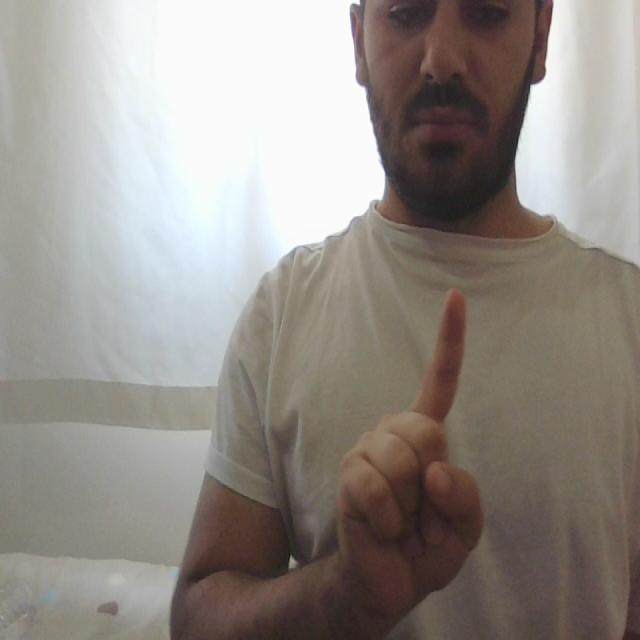Hayir: (337, 267, 507, 620)
